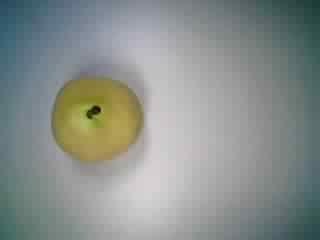pear: (38, 69, 147, 171)
